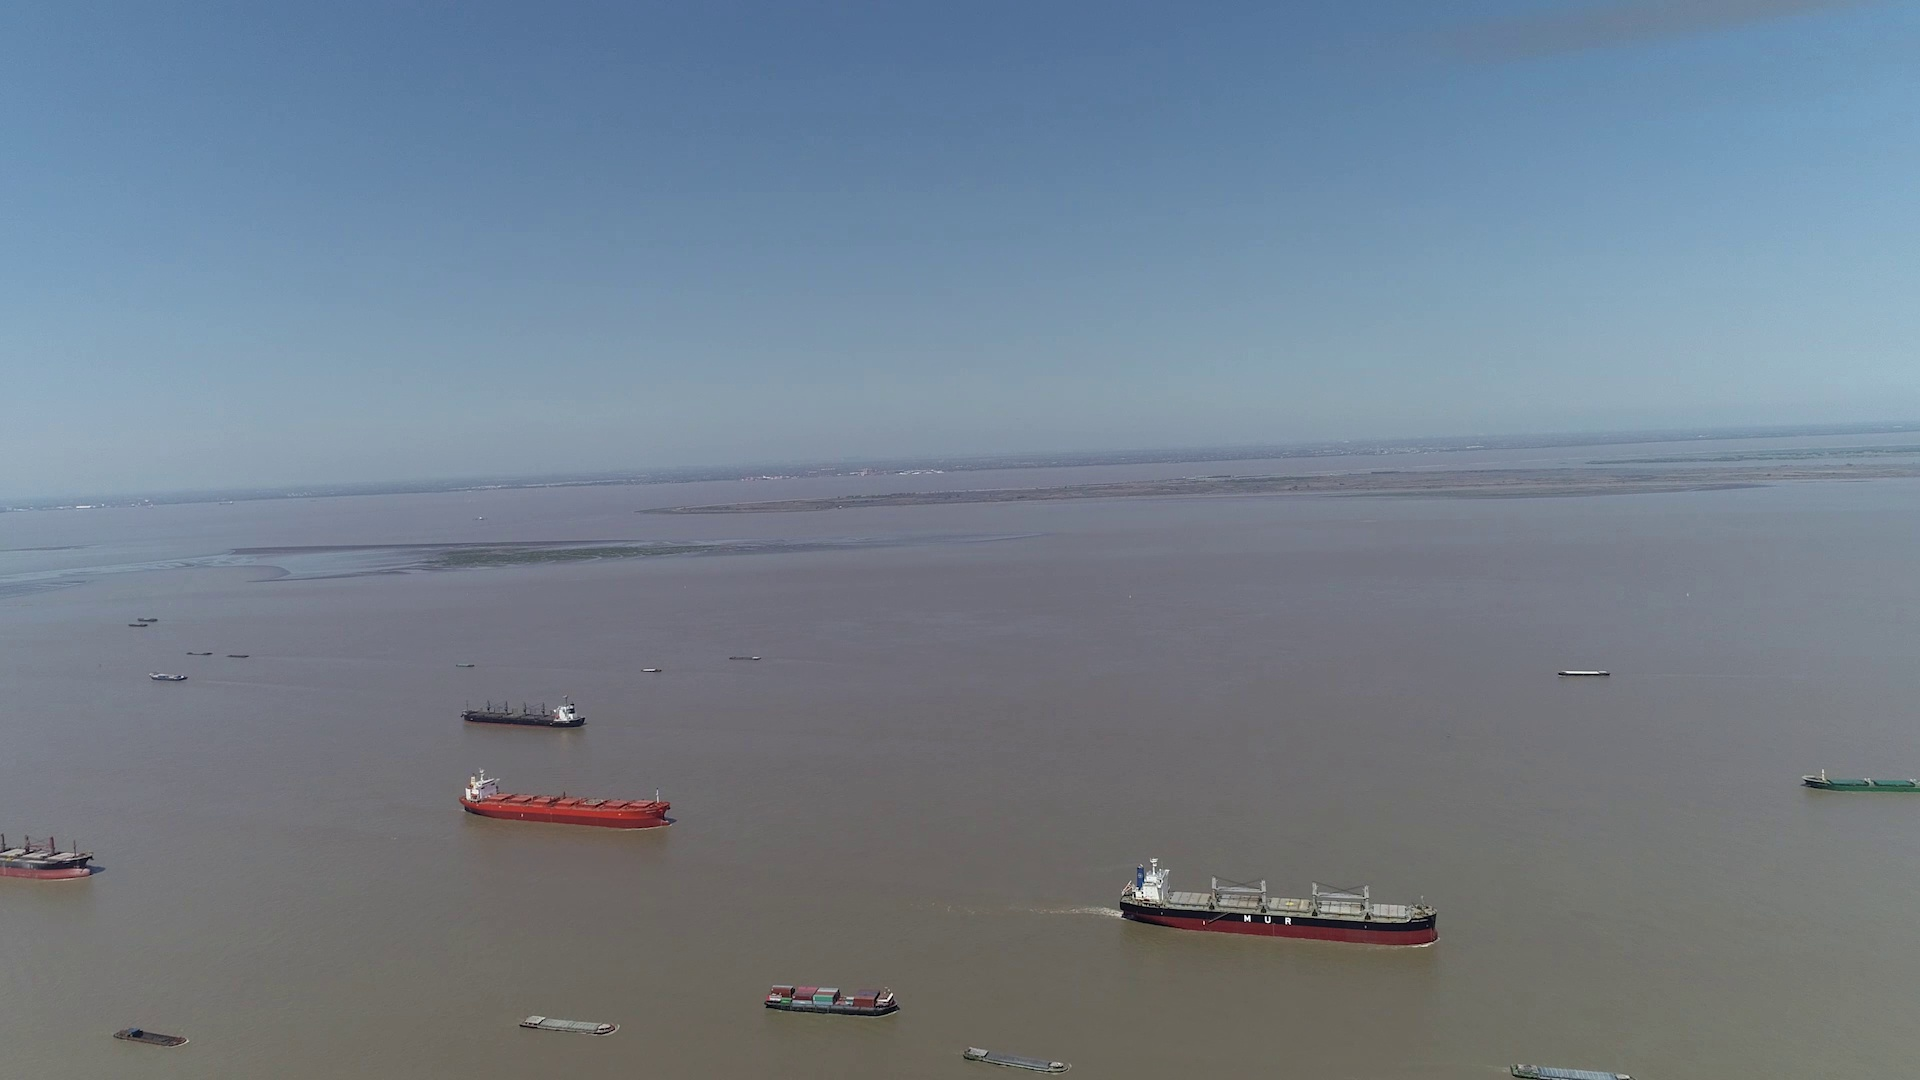ship: (1117, 857, 1441, 945), (458, 766, 669, 828), (1, 825, 99, 882), (764, 984, 899, 1017), (463, 698, 585, 727), (963, 1044, 1069, 1073), (1801, 767, 1917, 793), (1509, 1062, 1631, 1080), (521, 1015, 615, 1038), (112, 1027, 189, 1046), (1557, 669, 1611, 676), (150, 673, 186, 682), (127, 618, 156, 626)
